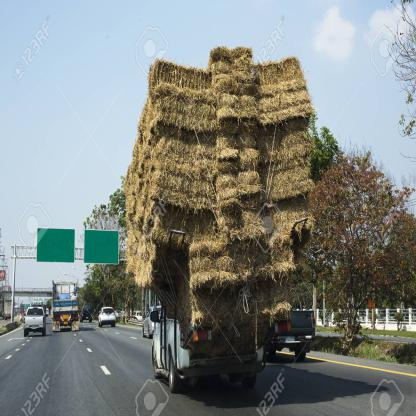overloaded-truck: (112, 62, 308, 316)
